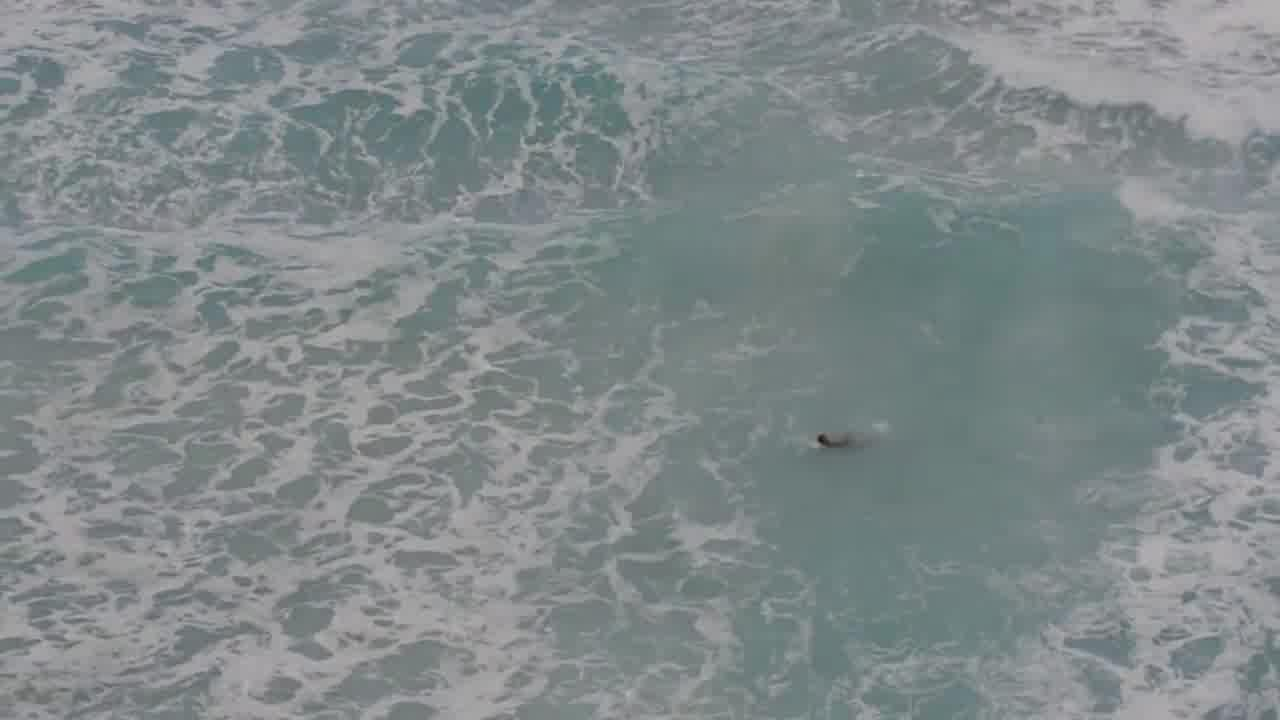swimmer: (799, 410, 859, 464)
